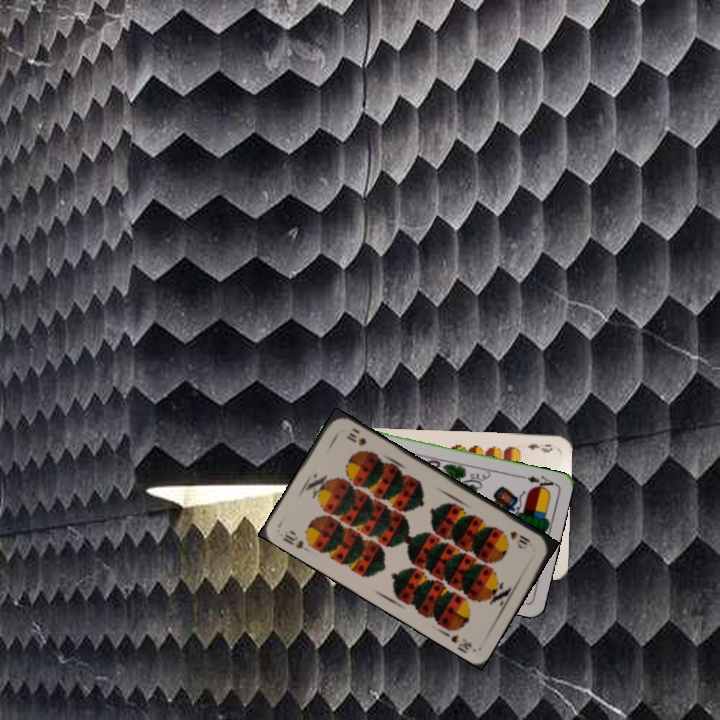E9: (524, 440, 555, 455)
EA: (517, 471, 557, 493)
S10: (279, 526, 306, 551), (506, 527, 533, 548)
